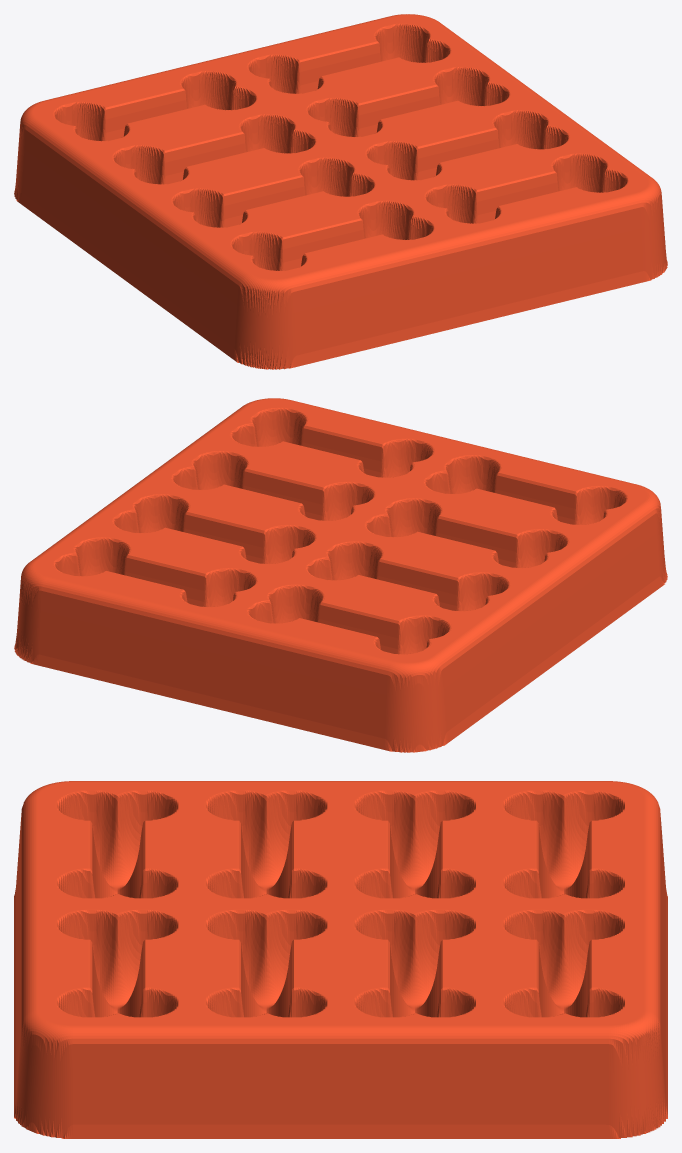
The model's file is mold.glb.
The picture shows the model from 3 angles, top to bottom: view 1: azimuth 30°, elevation 25°; view 2: azimuth 150°, elevation 25°; view 3: azimuth 270°, elevation 25°; orthographic projection. The views are drawn at different scales.
Parts seen in each view (by area): view 1: geometry_0; view 2: geometry_0; view 3: geometry_0.
Boxes of the visible parts, bbox=[...] form: geometry_0: bbox=[14, 14, 667, 369]; geometry_0: bbox=[14, 398, 667, 752]; geometry_0: bbox=[14, 781, 667, 1138].
Size of the model in its own units: 0.0956 by 0.0175 by 0.1004.
